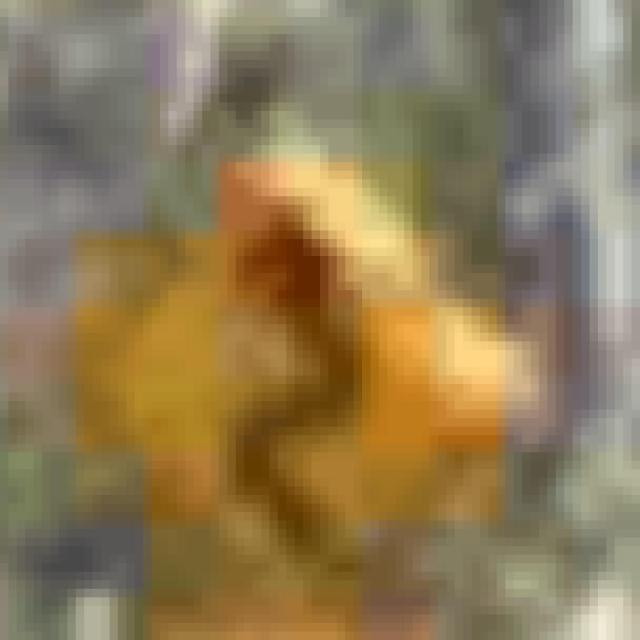Banyak Tikungan Pertama Kiri: (25, 103, 564, 632)
